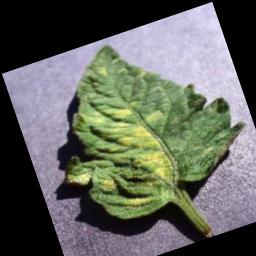Leaf_Mold: (28, 10, 256, 234)
